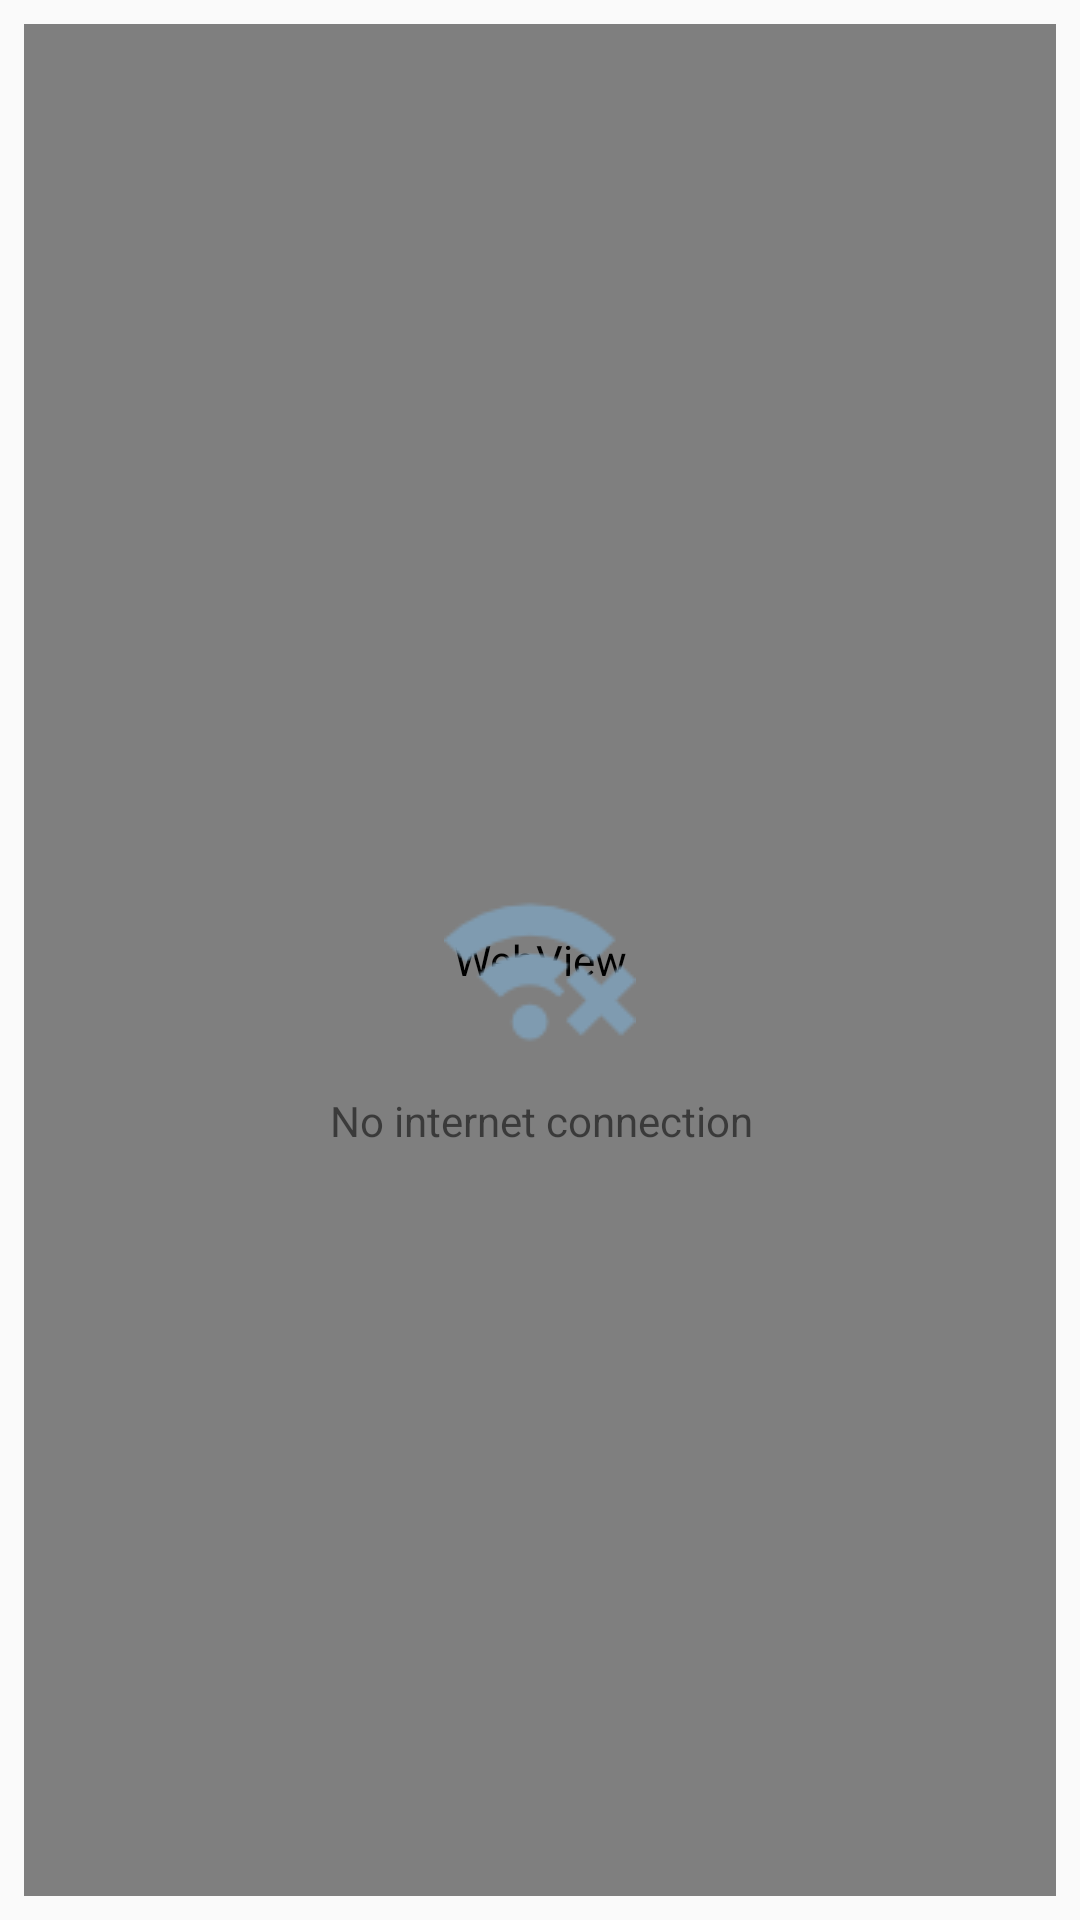

Where icons sit on this 1080 x 1920 app screen, as (x1, y1, x2, y2):
wirelesserror: (444, 904, 636, 1040)
